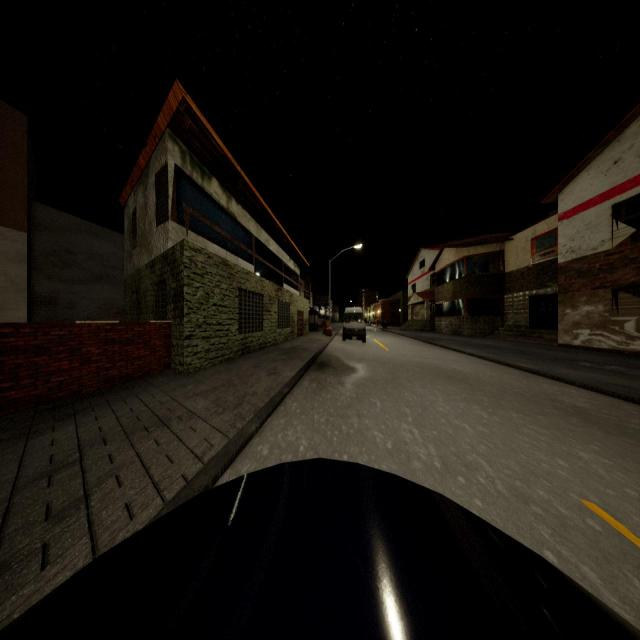Vehicle: (0, 455, 640, 640), (342, 306, 366, 342)
